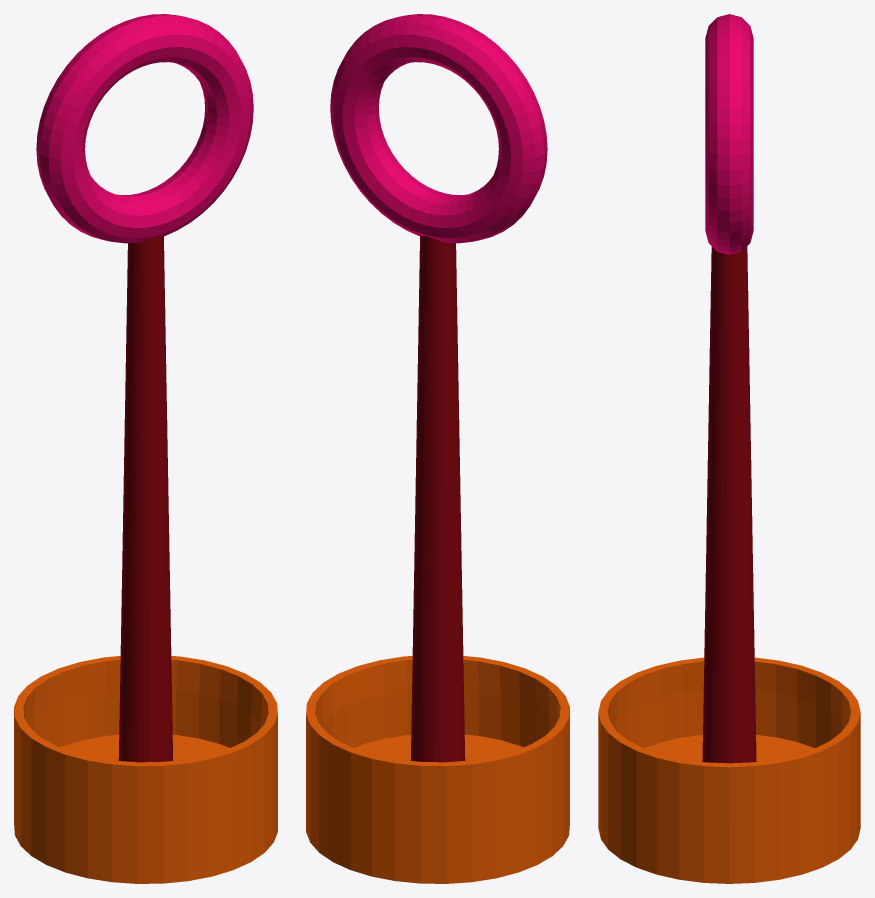
Rendered from DefaulltShootWeapon.fbx.
3 views of the same model, side by side, from view 1: azimuth 30°, elevation 25°; view 2: azimuth 150°, elevation 25°; view 3: azimuth 270°, elevation 25° (orthographic).
Visible parts, largest first — view 1: Cylinder.002, Torus.002; view 2: Cylinder.002, Torus.002; view 3: Cylinder.002, Torus.002.
Part boxes in pixels (left/top/right/bottom): Cylinder.002: left=14, top=236, right=277, bottom=883; Torus.002: left=36, top=14, right=253, bottom=243; Cylinder.002: left=306, top=236, right=569, bottom=883; Torus.002: left=330, top=14, right=547, bottom=243; Cylinder.002: left=598, top=246, right=860, bottom=883; Torus.002: left=705, top=14, right=753, bottom=254.
Size of the model in its own units: 916 by 3097 by 916.
